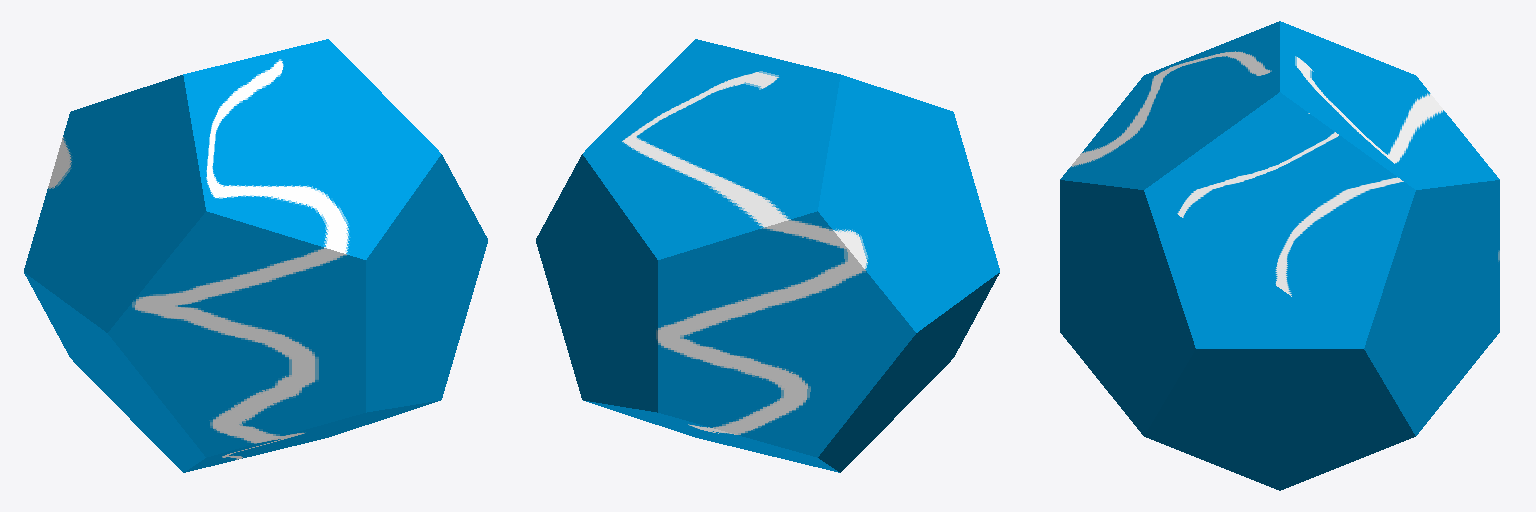
3 renders of one model, left to right at view 1: azimuth 30°, elevation 25°; view 2: azimuth 150°, elevation 25°; view 3: azimuth 270°, elevation 25°, orthographic.
Parts seen in each view (by area): view 1: Dodecahedron; view 2: Dodecahedron; view 3: Dodecahedron.
Part boxes in pixels (x1,y1,x2,y2): Dodecahedron: (24,39,487,472); Dodecahedron: (536,39,999,472); Dodecahedron: (1060,21,1499,490).
Bounding box in the file's own units: 1.87 × 1.87 × 1.87.
1 materials, 1 textured.